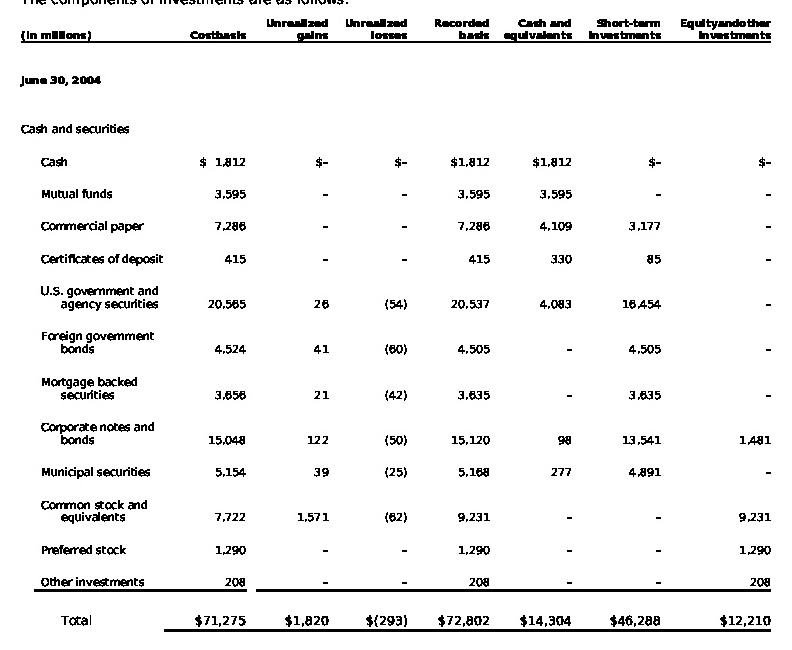table: (0, 0, 792, 650)
